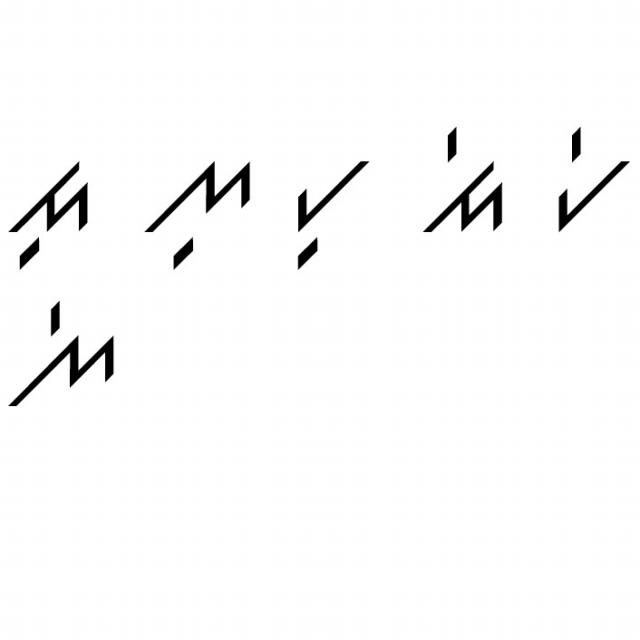de: (420, 121, 509, 251)
du: (5, 152, 105, 272)
ne: (4, 295, 130, 416)
nu: (138, 144, 255, 274)
pe: (552, 122, 629, 232)
pu: (278, 148, 374, 274)
